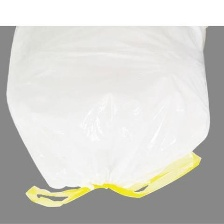plastic_bag: (0, 25, 217, 217)
